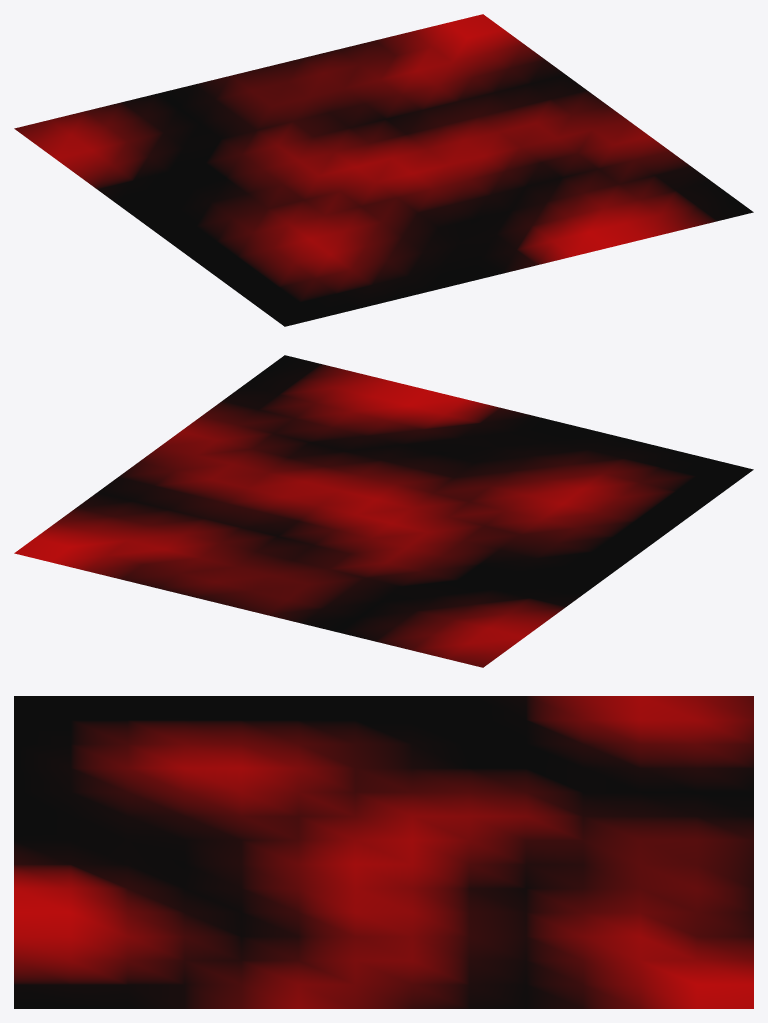
3 renders of one model, top to bottom at view 1: azimuth 30°, elevation 25°; view 2: azimuth 150°, elevation 25°; view 3: azimuth 270°, elevation 25°, orthographic. The views are drawn at different scales.
Visible parts, largest first — view 1: Plane002; view 2: Plane002; view 3: Plane002.
Boxes of the visible parts, left/top/right/bottom form: Plane002: left=14, top=14, right=753, bottom=326; Plane002: left=14, top=355, right=753, bottom=667; Plane002: left=14, top=696, right=753, bottom=1008.
Bounding box in the file's own units: 975 × 0.000116 × 975.
